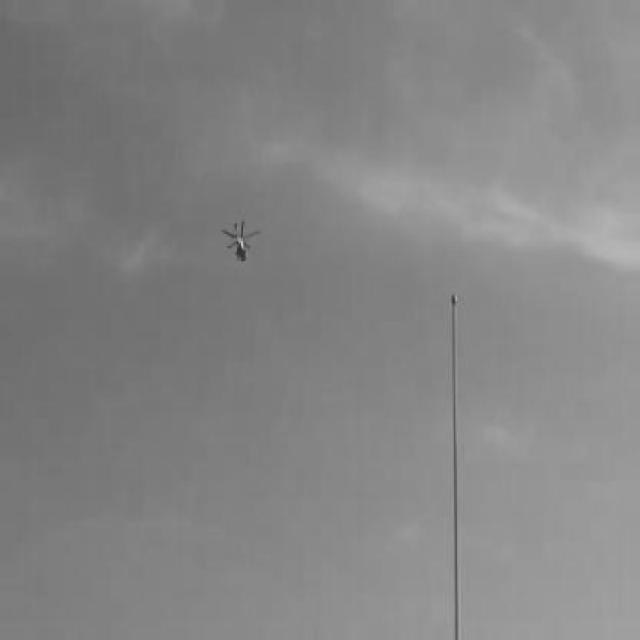helikopter: (221, 222, 261, 262)
